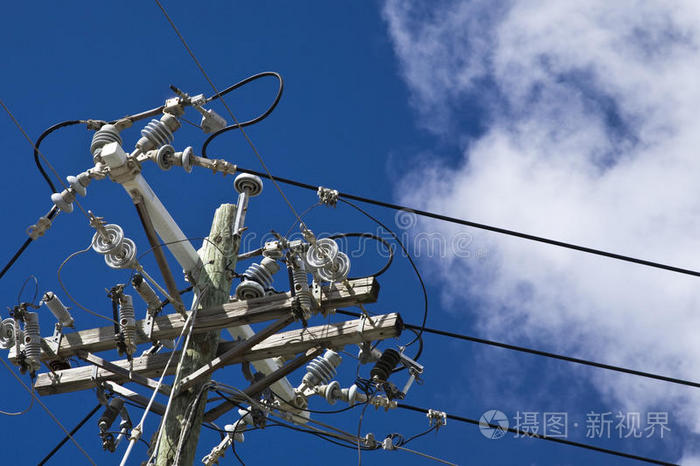insulator: (308, 237, 351, 285), (93, 224, 134, 272)
